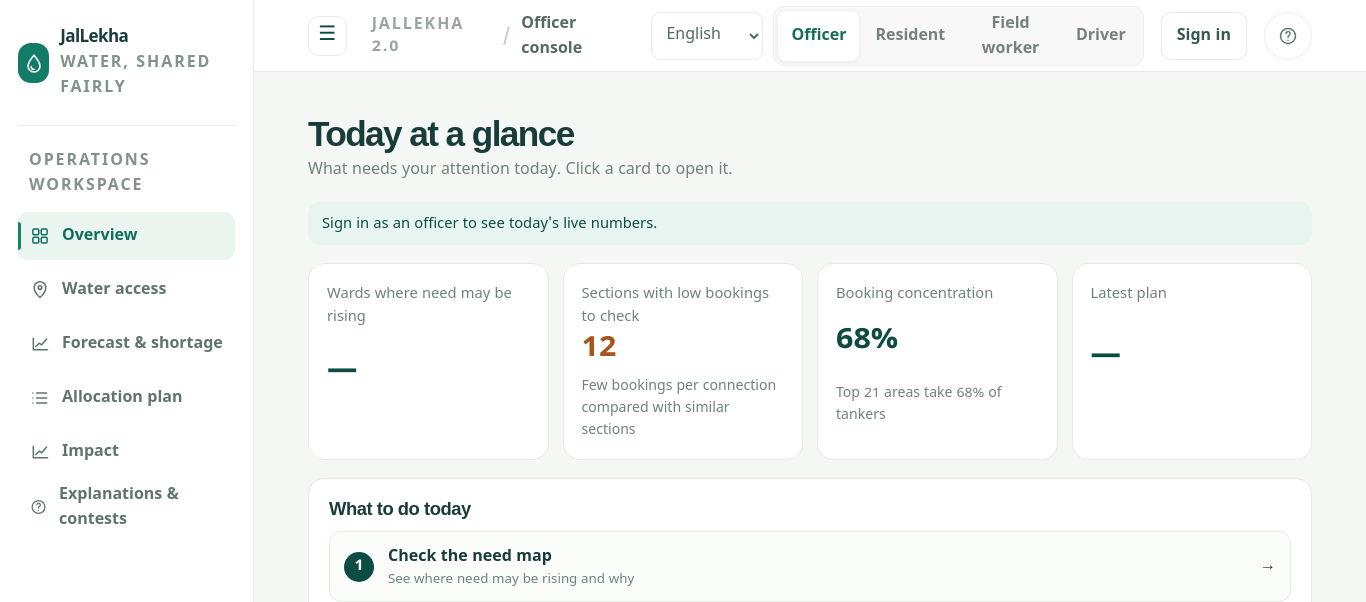
Test case: App › says a translation is a draft until a native speaker has reviewed it
Step 1. Select "తెలుగు" in the dropdown named "Language" → (708, 36), box left=652, top=12, right=764, bottom=60
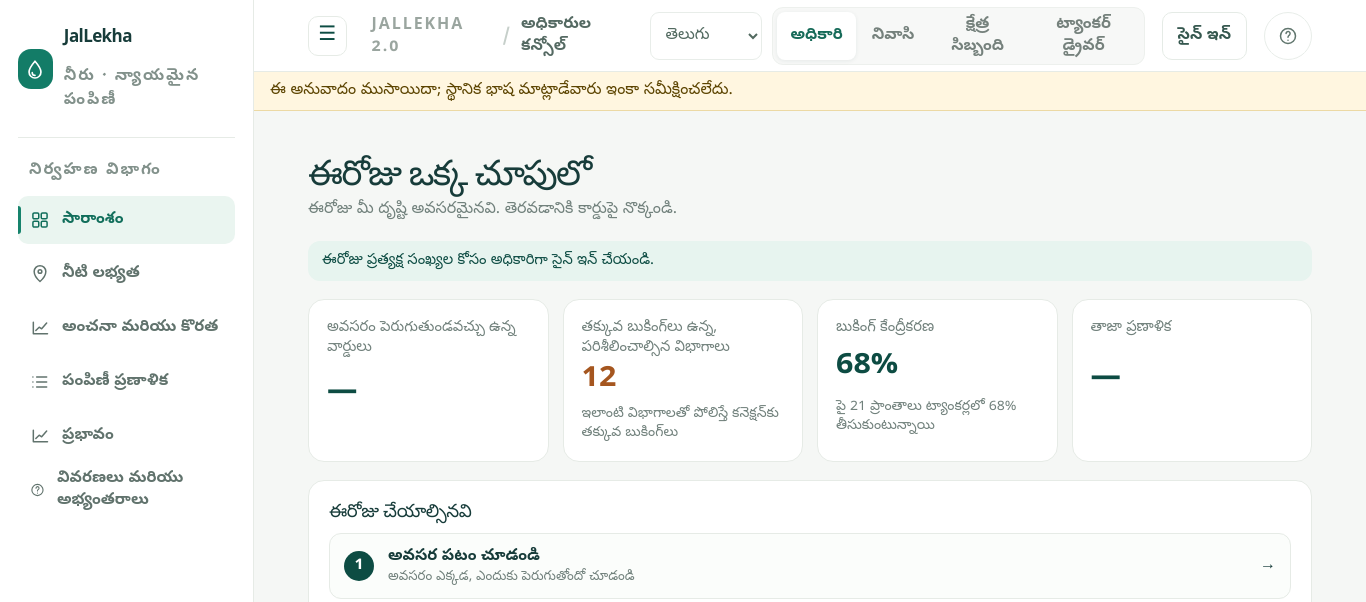
Expected: the text named "అనువాద స్థితి" shows "ఈ అనువాదం ముసాయిదా", left=270, top=80, right=733, bottom=102
Step 2. Select "اردو" in the dropdown named "Language" → (706, 36), box left=650, top=12, right=762, bottom=60
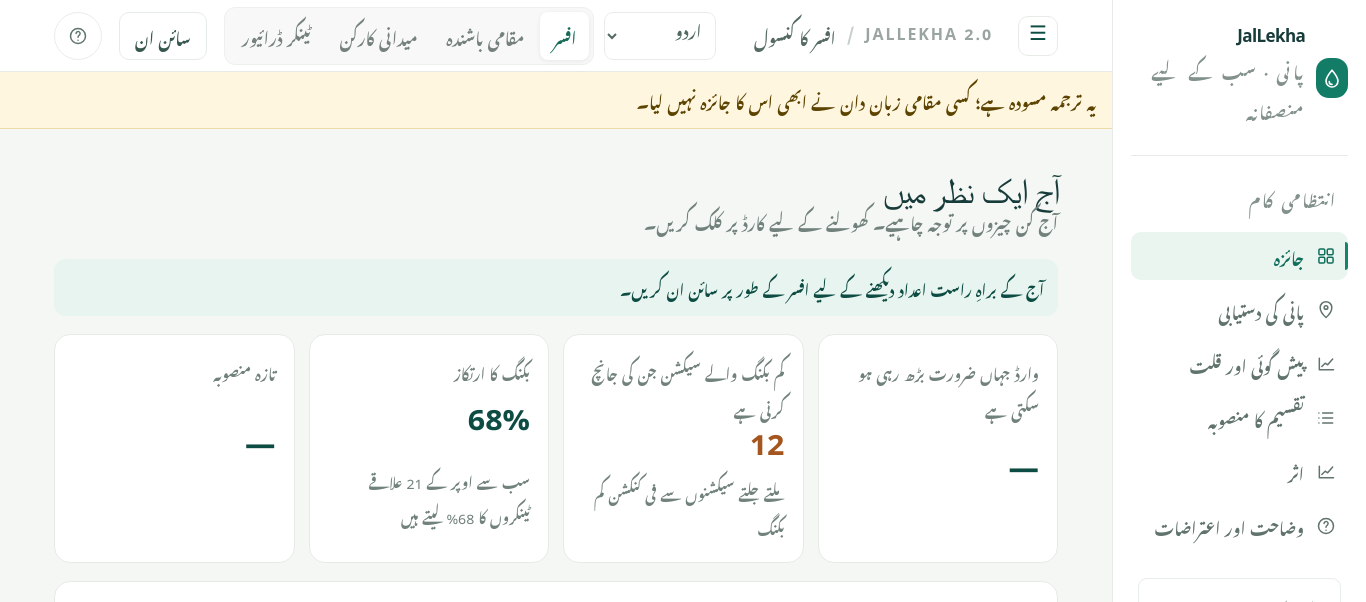
Expected: the text named "ترجمے کی حیثیت" shows "یہ ترجمہ مسودہ ہے", left=637, top=96, right=1096, bottom=118
Step 3. Select "हिन्दी" in the dropdown named "Language" → (660, 36), box left=604, top=12, right=716, bottom=60
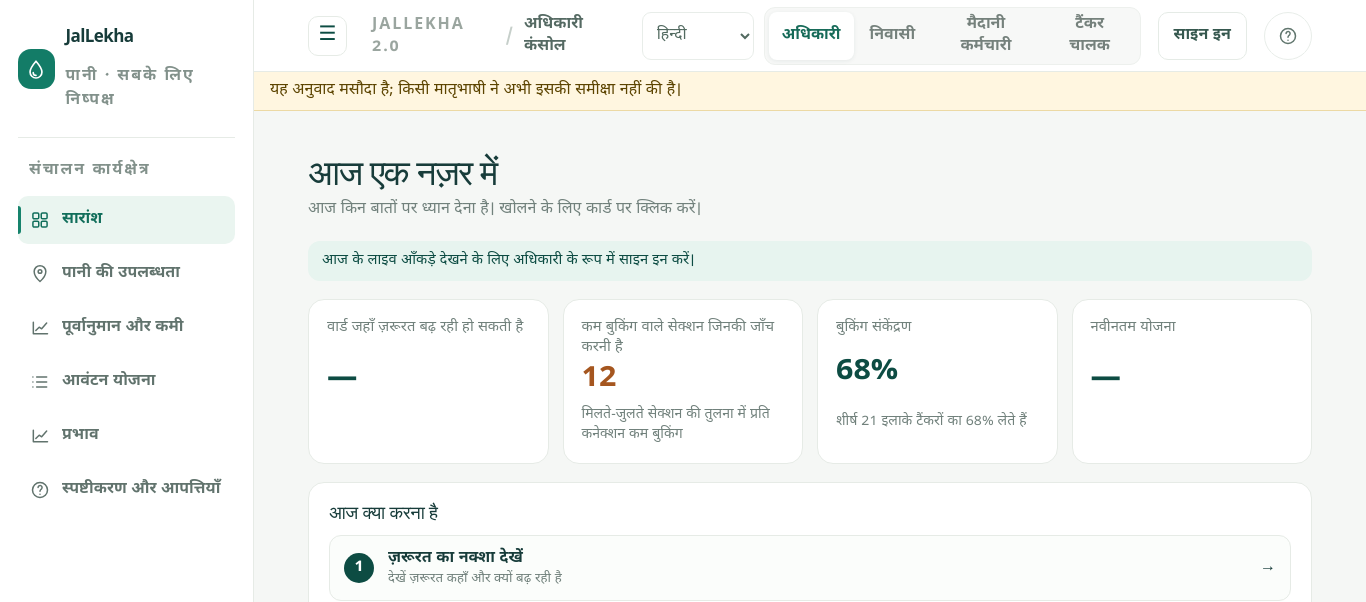
Expected: the text named "अनुवाद की स्थिति" shows "यह अनुवाद मसौदा है", left=270, top=80, right=681, bottom=102
